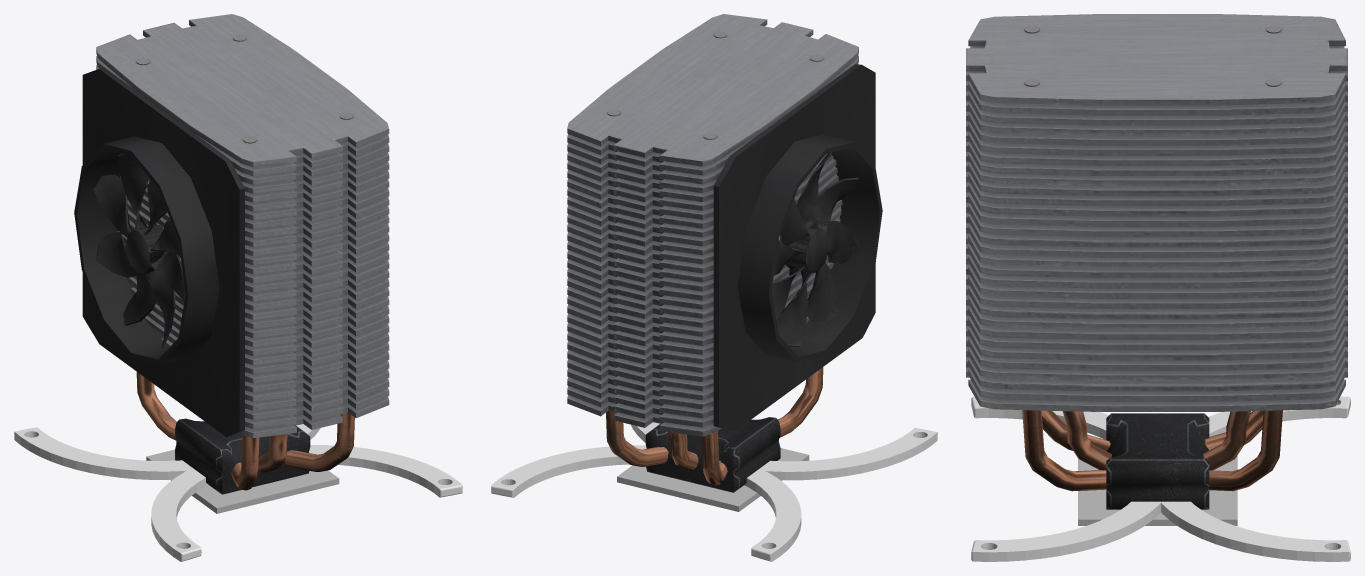
File: CoolerCombined.fbx
3 views of the same model, side by side, from view 1: azimuth 30°, elevation 25°; view 2: azimuth 150°, elevation 25°; view 3: azimuth 270°, elevation 25° (orthographic). The views are drawn at different scales.
Parts seen in each view (by area): view 1: Cooler, Plane022, Circle, OverCPUPart; view 2: Cooler, Plane022, Circle, OverCPUPart; view 3: Cooler, Plane022, Circle, OverCPUPart.
Boxes of the visible parts, left/top/right/bottom form: Cooler: left=96, top=14, right=389, bottom=438; Plane022: left=74, top=35, right=354, bottom=494; Circle: left=14, top=424, right=462, bottom=561; OverCPUPart: left=146, top=449, right=339, bottom=513; Cooler: left=567, top=14, right=858, bottom=436; Plane022: left=606, top=32, right=882, bottom=492; Circle: left=491, top=422, right=937, bottom=561; OverCPUPart: left=617, top=448, right=809, bottom=511; Cooler: left=966, top=14, right=1347, bottom=411; Plane022: left=1022, top=26, right=1282, bottom=509; Circle: left=971, top=396, right=1350, bottom=561; OverCPUPart: left=1078, top=455, right=1237, bottom=525.
Bounding box in the file's own units: 10.4 × 13.56 × 10.84.
